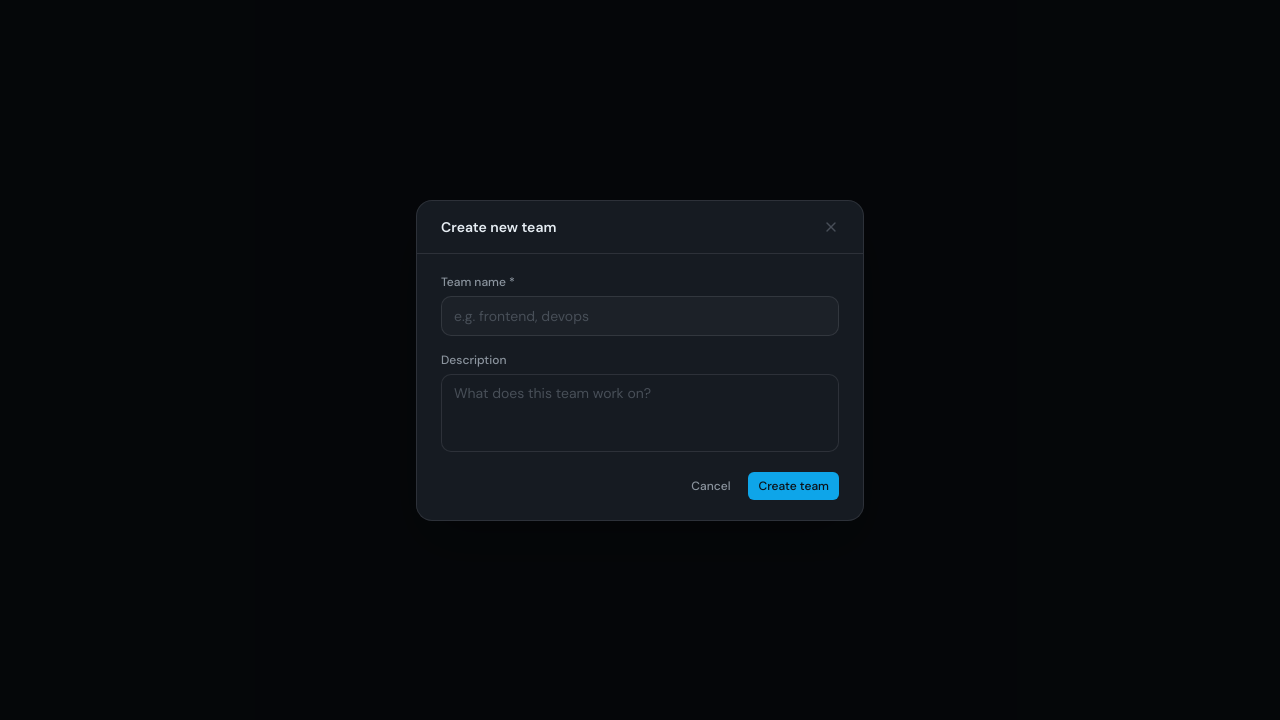
it: CreateTeamModal › validation › shows error when submitting with empty name
Click the button "Create team".
click(794, 486)  # box x1=748 y1=472 x2=839 y2=500
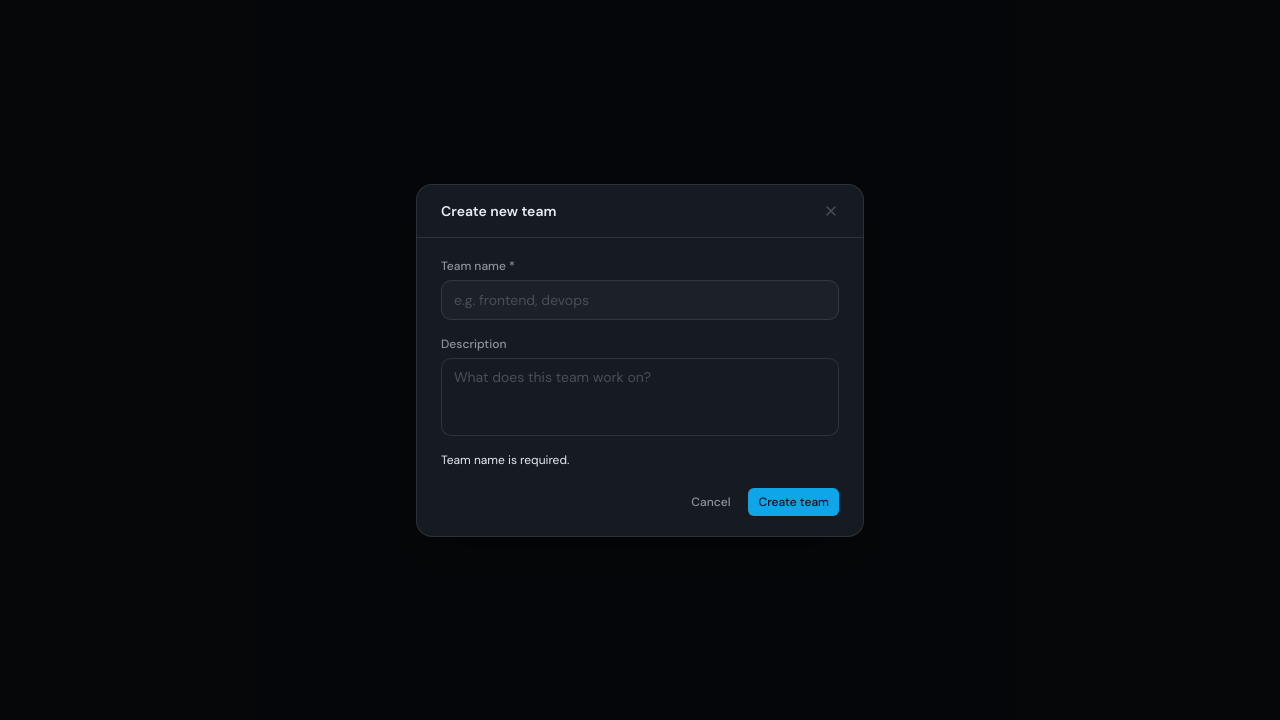
Check: the text "Team name is required." is shown, box x1=441 y1=452 x2=569 y2=468
